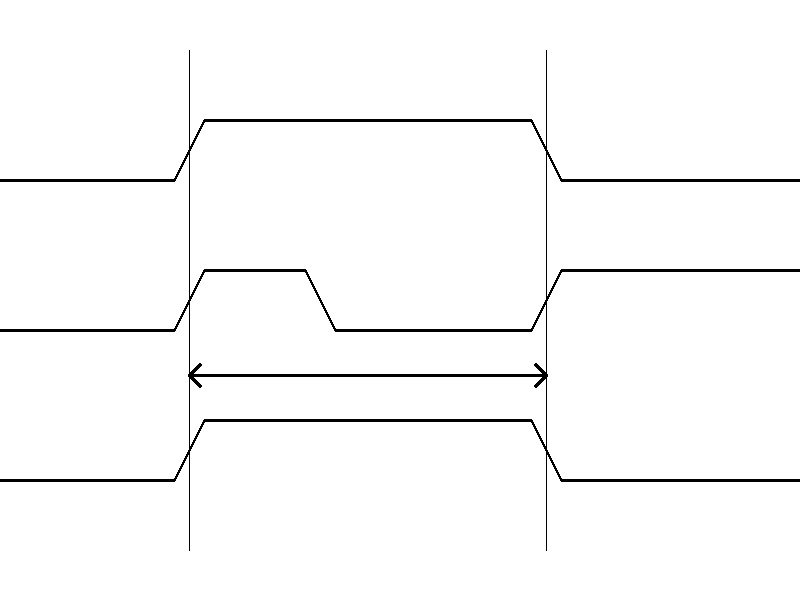double_arrow: (189, 360, 546, 390)
